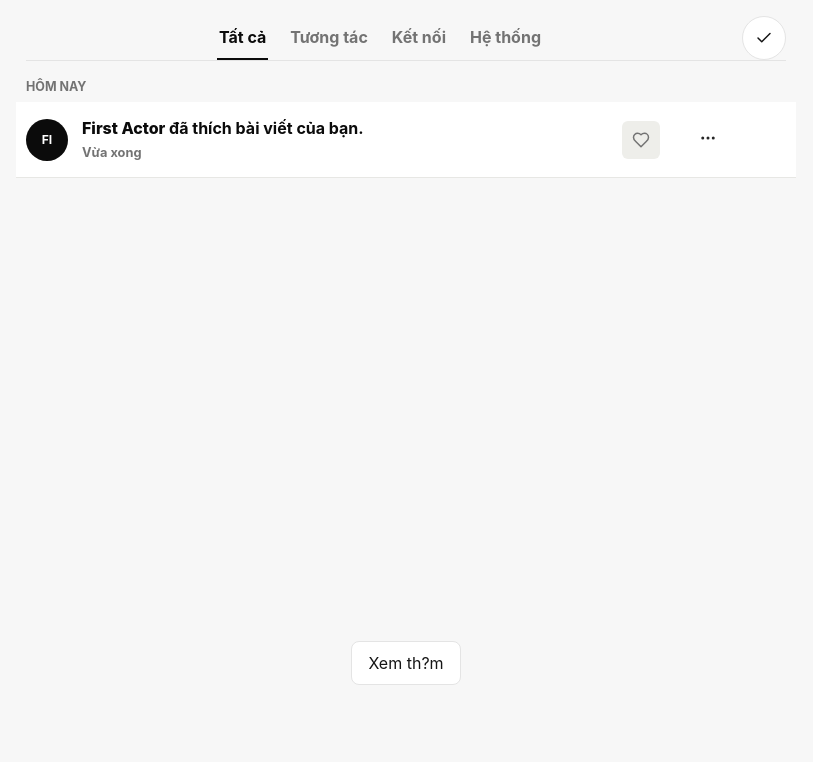
Test: retries the next notification page while preserving and deduplicating rows
Click the button with aria-label "Load more notifications" at (406, 663), box [351,641,461,685]
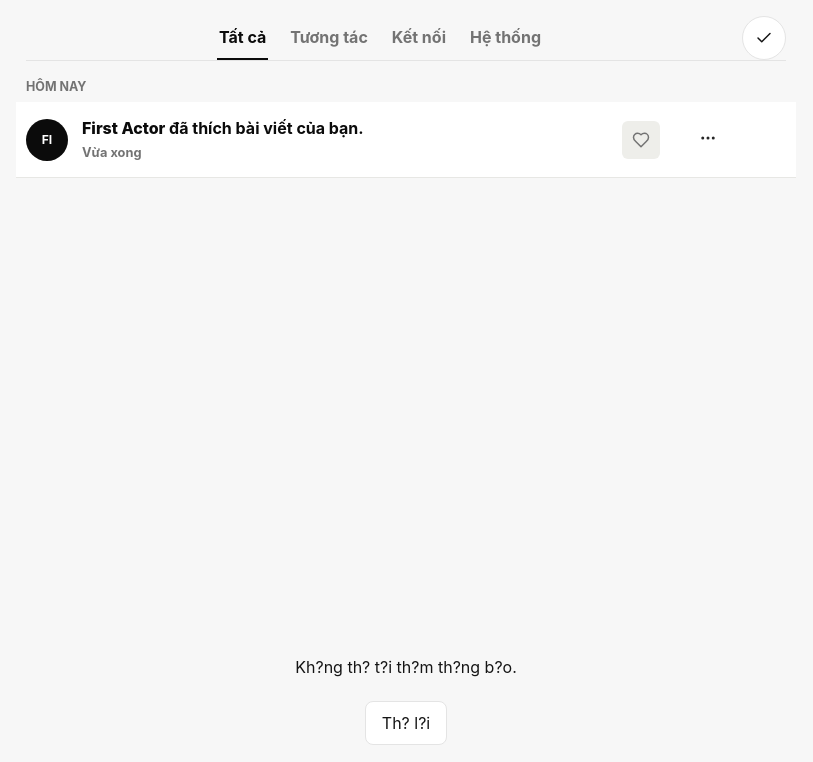
expect the text "First Actor" is shown: met, box [82,118,165,138]
Click the button with aria-label "Retry loading notifications" at (406, 723), box [365,701,447,745]
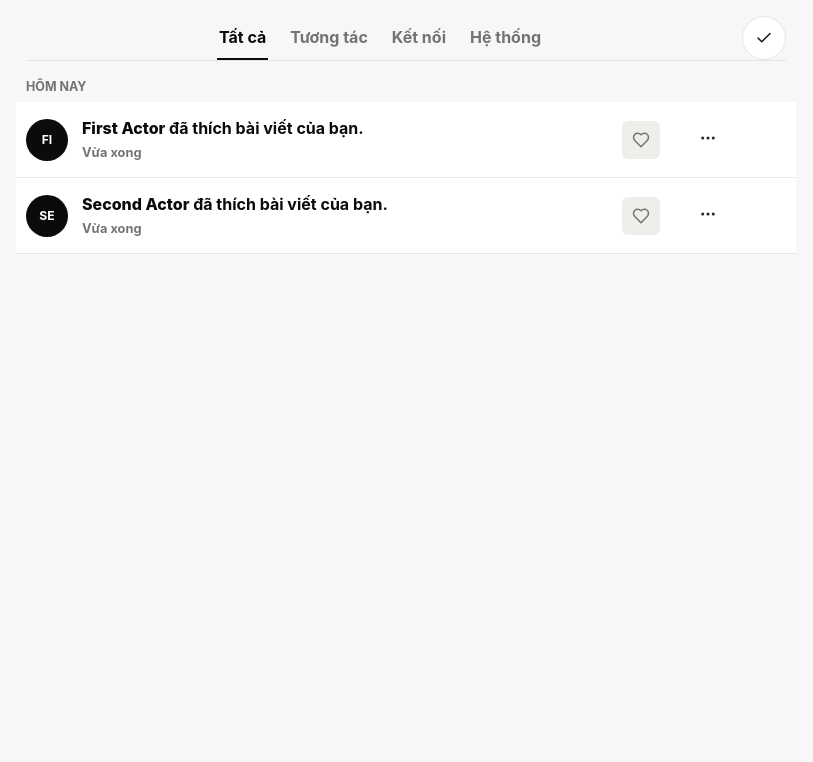
expect the text "Second Actor" is shown: met, box [82,194,189,214]
expect the text "First Actor" is shown once: met, box [82,118,165,138]
